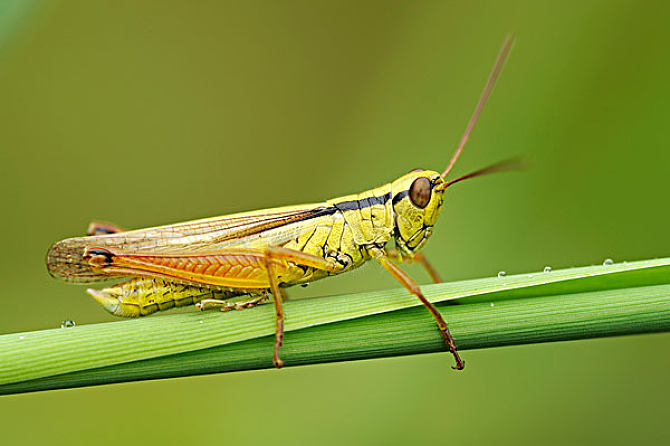huangchong: (52, 144, 483, 357)
